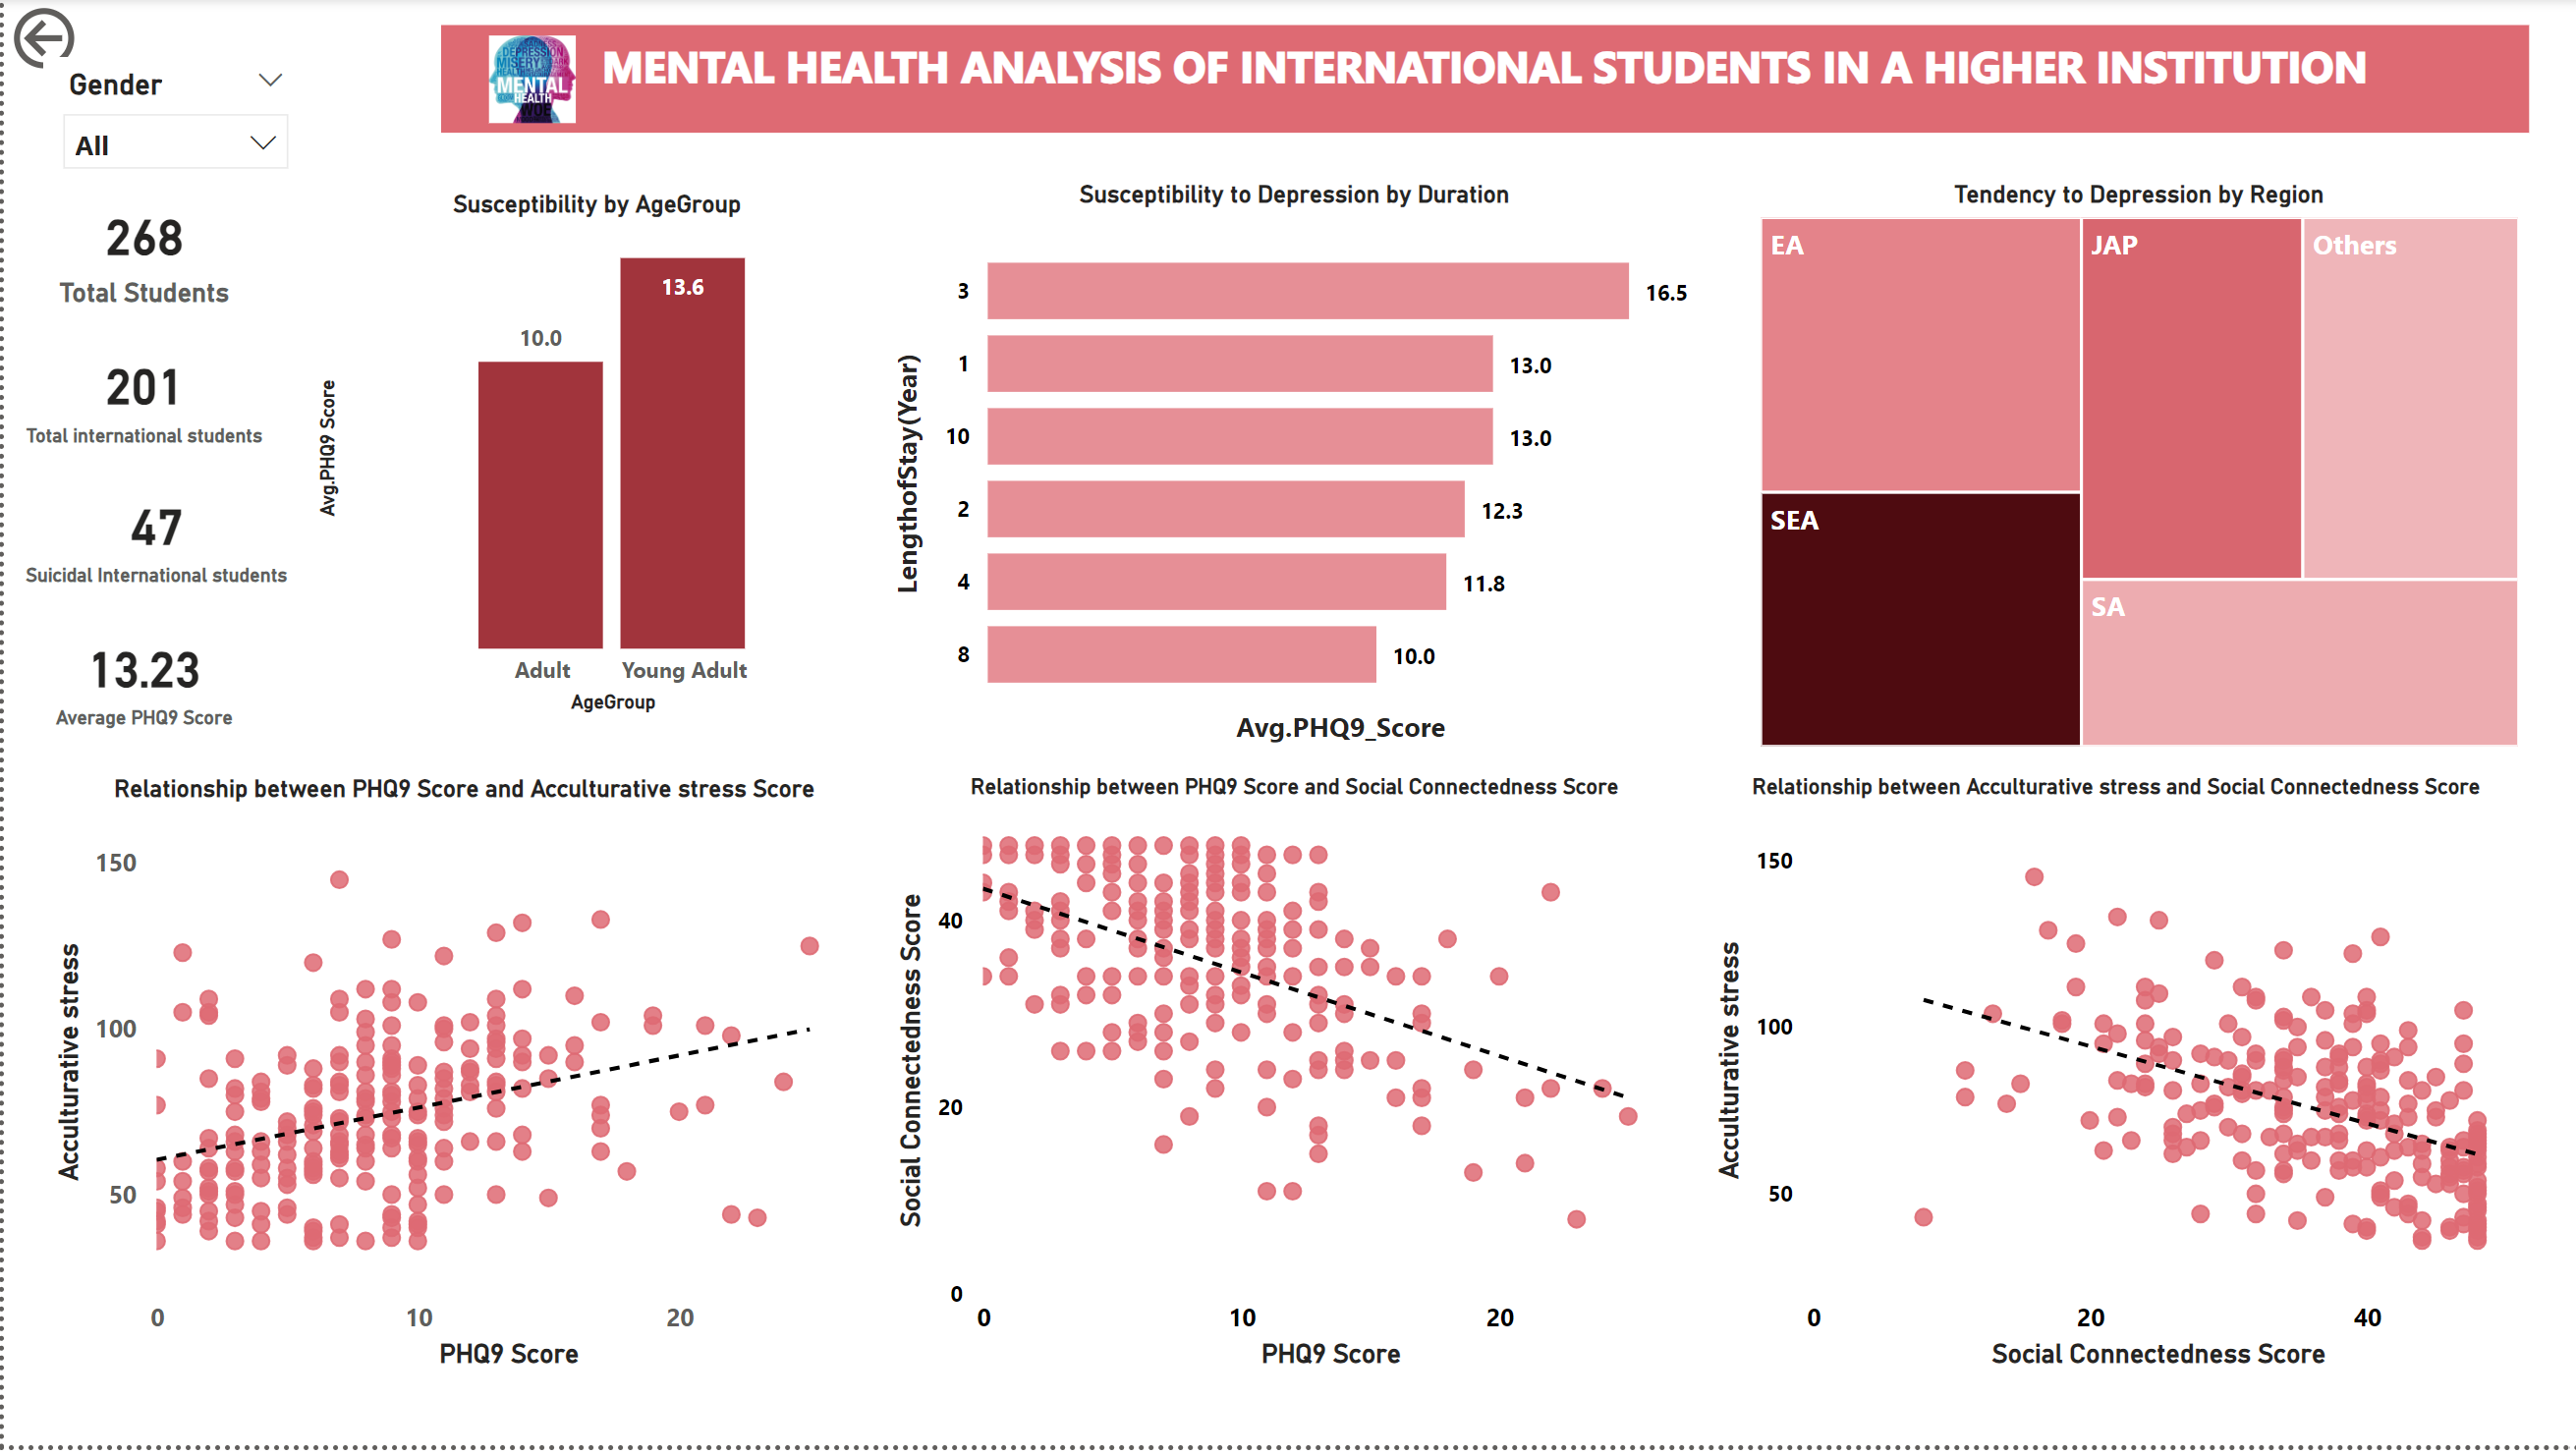

The page's visual inventory and layout, read from the dashboard file:
{"tool":"powerbi","page":{"name":"Mental Health","canvas":[1280,720],"ordinal":0},"visuals":[{"type":"scatterChart","title":"Relationship between PHQ9 Score and Acculturative stress Score","fields":{"X":["view_mental_health_japan.ToDep"],"Y":["view_mental_health_japan.ToAS"]},"box":[19.6,386.3,419.3,300.7],"z":0},{"type":"scatterChart","title":"Relationship between PHQ9 Score and Social Connectedness Score","fields":{"X":["view_mental_health_japan.ToDep"],"Y":["view_mental_health_japan.ToSC"]},"box":[438.8,386.3,407.1,300.7],"z":1000},{"type":"scatterChart","title":"Relationship between Acculturative stress and Social Connectedness Score","fields":{"X":["view_mental_health_japan.ToSC"],"Y":["view_mental_health_japan.ToAS"]},"box":[845.9,386.3,410.7,300.7],"z":2000},{"type":"treemap","title":"Tendency to Depression by Region","fields":{"Group":["view_mental_health_japan.Region"],"Values":["MeasureTable.Avg.PHQ9_Suicidal_Int"]},"box":[869,90.3,387.2,286.8],"z":3000},{"type":"clusteredBarChart","title":"Susceptibility to Depression by Duration","fields":{"Category":["view_mental_health_japan.Stay"],"Y":["MeasureTable.Avg.PHQ9_Suicidal_Int"]},"box":[439,90,407,285],"z":4000},{"type":"actionButton","box":[0,0,100,40],"z":5000},{"type":"card","fields":{"Values":["MeasureTable.Total Students"]},"box":[0,90.5,139.4,70.9],"z":6000},{"type":"card","fields":{"Values":["MeasureTable.IntStudentsandSuicidal"]},"box":[0,232.3,151.6,70.9],"z":7000},{"type":"card","fields":{"Values":["MeasureTable.Total international students"]},"box":[0,162.6,139.4,70.9],"z":8000},{"type":"textbox","box":[217.6,13.4,1039,53.8],"z":9000},{"type":"card","fields":{"Values":["MeasureTable.Avg.PHQ9_Suicidal_Int"]},"box":[0,303.2,139.4,70.9],"z":10000},{"type":"columnChart","title":"Susceptibility by AgeGroup","fields":{"Y":["MeasureTable.Avg.PHQ9_Suicidal_Int"],"Category":["view_mental_health_japan.AgeGroup","view_mental_health_japan.Age"]},"box":[151.6,95.3,287.3,265.3],"z":11000},{"type":"image","box":[229.8,13.4,66,53.8],"z":12000},{"type":"slicer","fields":{"Values":["view_mental_health_japan.Gender"]},"box":[19.6,29.3,132,61.1],"z":13000}]}

Visuals, with their boxes in screenshot pixels (x1, y1, x2, y2), scaled from the page's 1280x720 canvas onto the 2576x1456 screenshot:
"Relationship between PHQ9 Score and Acculturative stress Score" scatterChart: pyautogui.locateOnScreen(39, 781, 883, 1389)
"Relationship between PHQ9 Score and Social Connectedness Score" scatterChart: pyautogui.locateOnScreen(883, 781, 1703, 1389)
"Relationship between Acculturative stress and Social Connectedness Score" scatterChart: pyautogui.locateOnScreen(1703, 781, 2529, 1389)
"Tendency to Depression by Region" treemap: pyautogui.locateOnScreen(1749, 183, 2528, 762)
"Susceptibility to Depression by Duration" clusteredBarChart: pyautogui.locateOnScreen(883, 182, 1703, 758)
actionButton: pyautogui.locateOnScreen(0, 0, 201, 81)
card - MeasureTable.Total Students: pyautogui.locateOnScreen(0, 183, 281, 326)
card - MeasureTable.IntStudentsandSuicidal: pyautogui.locateOnScreen(0, 470, 306, 613)
card - MeasureTable.Total international students: pyautogui.locateOnScreen(0, 329, 281, 473)
textbox: pyautogui.locateOnScreen(438, 28, 2529, 136)
card - MeasureTable.Avg.PHQ9_Suicidal_Int: pyautogui.locateOnScreen(0, 613, 281, 756)
"Susceptibility by AgeGroup" columnChart: pyautogui.locateOnScreen(306, 193, 883, 729)
image: pyautogui.locateOnScreen(463, 28, 595, 136)
slicer - view_mental_health_japan.Gender: pyautogui.locateOnScreen(39, 59, 306, 183)
